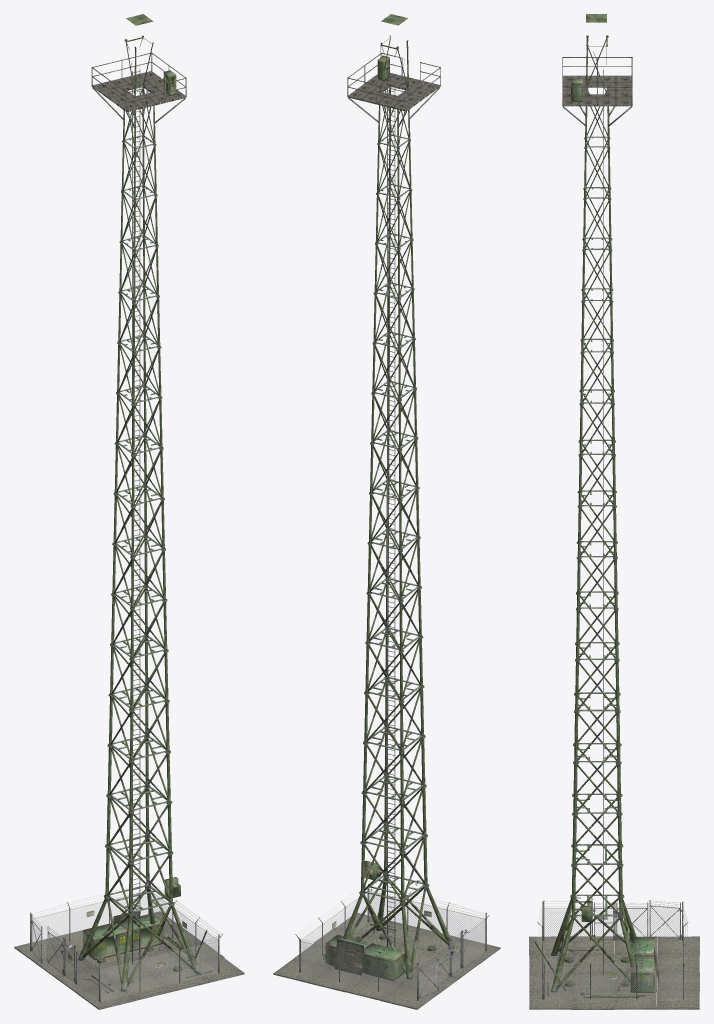
File: radio_tower.glb
The picture shows the model from 3 angles, left to right: view 1: azimuth 30°, elevation 25°; view 2: azimuth 150°, elevation 25°; view 3: azimuth 270°, elevation 25°; orthographic projection. The views are drawn at different scales.
Visible parts, largest first — view 1: structure_mesh, ladder_visual_mesh; view 2: structure_mesh, ladder_visual_mesh; view 3: structure_mesh, ladder_visual_mesh, gate_hinge_mesh.
Part boxes in pixels (<box>): structure_mesh: <box>14,14,244,1009</box>; ladder_visual_mesh: <box>132,69,140,963</box>; structure_mesh: <box>273,14,500,1009</box>; ladder_visual_mesh: <box>387,73,395,947</box>; structure_mesh: <box>529,14,699,1009</box>; ladder_visual_mesh: <box>603,69,603,974</box>; gate_hinge_mesh: <box>594,902,613,939</box>.
Bounding box in the file's own units: 9.26 × 58 × 9.24.
10 materials, 10 textured.
